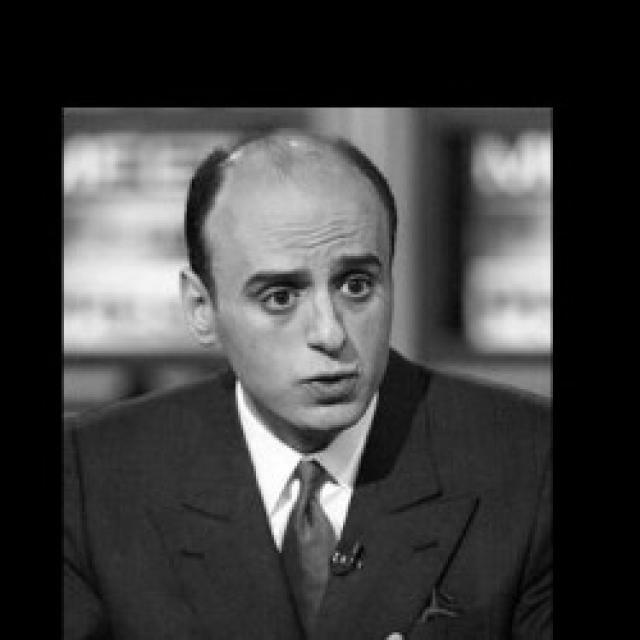real: (201, 140, 405, 426), (232, 260, 387, 316)
